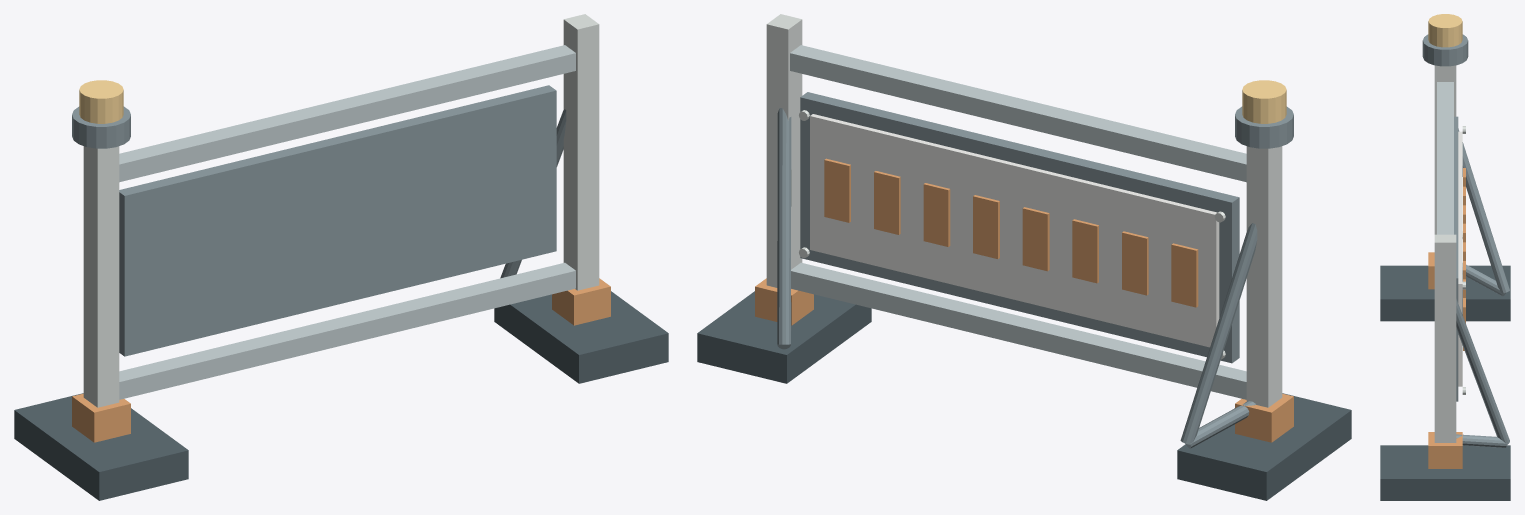
File: exterior_safety_barrier.glb
3 renders of one model, left to right at view 1: azimuth 30°, elevation 25°; view 2: azimuth 150°, elevation 25°; view 3: azimuth 270°, elevation 25°, orthographic. The views are drawn at different scales.
Visible parts, largest first — view 1: panel_frame_dark_alloy, cross_rails_alloy, weighted_feet_black_rubber, posts_satin_steel, foot_collar_orange, barrier_light_diffuser_amber_glow, barrier_light_socket_dark_alloy; view 2: panel_insert_white_painted, cross_rails_alloy, weighted_feet_black_rubber, panel_frame_dark_alloy, posts_satin_steel, reflective_segments_orange, support_braces_dark_alloy, foot_collar_orange, barrier_light_diffuser_amber_glow, barrier_light_socket_dark_alloy; view 3: weighted_feet_black_rubber, posts_satin_steel, support_braces_dark_alloy, cross_rails_alloy, foot_collar_orange, panel_insert_white_painted, barrier_light_diffuser_amber_glow, barrier_light_socket_dark_alloy, panel_frame_dark_alloy, reflective_segments_orange.
Boxes of the visible parts, <box> form: panel_frame_dark_alloy: <box>119,85,556,356</box>; cross_rails_alloy: <box>119,45,575,399</box>; weighted_feet_black_rubber: <box>14,291,668,500</box>; posts_satin_steel: <box>83,14,599,407</box>; foot_collar_orange: <box>72,278,610,442</box>; barrier_light_diffuser_amber_glow: <box>79,80,123,123</box>; barrier_light_socket_dark_alloy: <box>72,106,130,148</box>; panel_insert_white_painted: <box>810,114,1219,347</box>; cross_rails_alloy: <box>790,45,1246,399</box>; weighted_feet_black_rubber: <box>697,291,1351,500</box>; panel_frame_dark_alloy: <box>800,92,1239,363</box>; posts_satin_steel: <box>766,14,1282,407</box>; reflective_segments_orange: <box>824,158,1198,307</box>; support_braces_dark_alloy: <box>777,108,1257,448</box>; foot_collar_orange: <box>755,278,1293,442</box>; barrier_light_diffuser_amber_glow: <box>1242,80,1286,123</box>; barrier_light_socket_dark_alloy: <box>1235,106,1293,148</box>; weighted_feet_black_rubber: <box>1380,265,1510,500</box>; posts_satin_steel: <box>1434,65,1456,442</box>; support_braces_dark_alloy: <box>1456,128,1509,447</box>; cross_rails_alloy: <box>1437,82,1453,234</box>; foot_collar_orange: <box>1428,252,1462,468</box>; panel_insert_white_painted: <box>1458,131,1462,386</box>; barrier_light_diffuser_amber_glow: <box>1428,14,1462,47</box>; barrier_light_socket_dark_alloy: <box>1422,34,1468,66</box>; panel_frame_dark_alloy: <box>1454,116,1458,401</box>; reflective_segments_orange: <box>1463,168,1465,350</box>.
Bounding box in the file's own units: 1.78 × 1.1 × 0.46.
